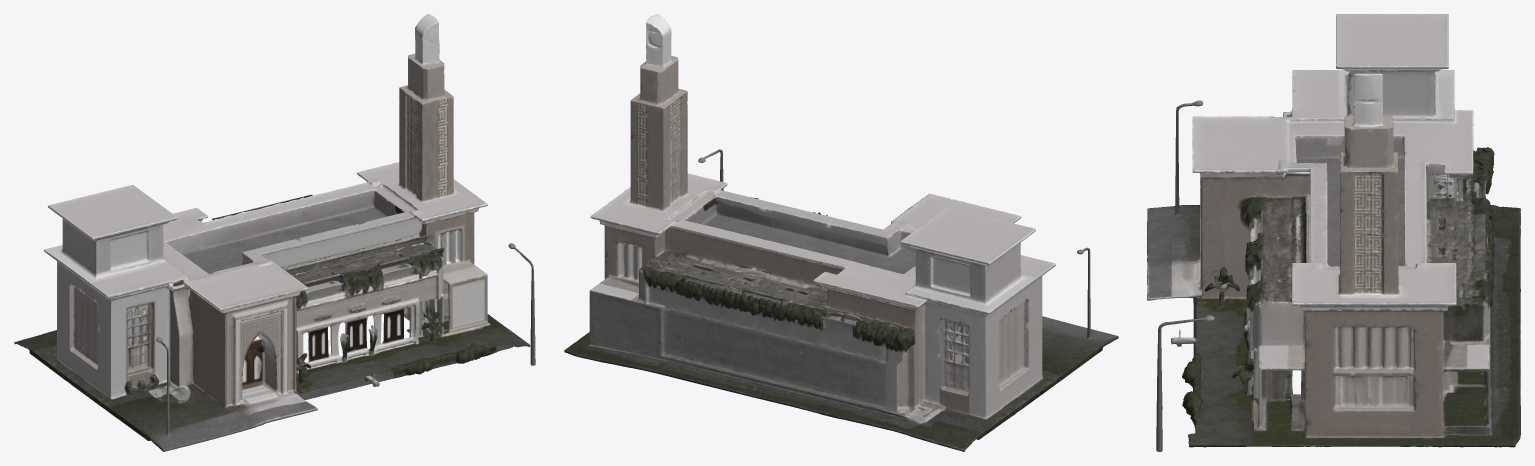
The model's file is 40cbcf71-fdd2-4136-8d7c-6981b8c63f97.glb.
3 views of the same model, side by side, from view 1: azimuth 30°, elevation 25°; view 2: azimuth 150°, elevation 25°; view 3: azimuth 270°, elevation 25° (orthographic). The views are drawn at different scales.
Size of the model in its own units: 1.9 by 1.37 by 1.27.
1 material, 1 textured.
